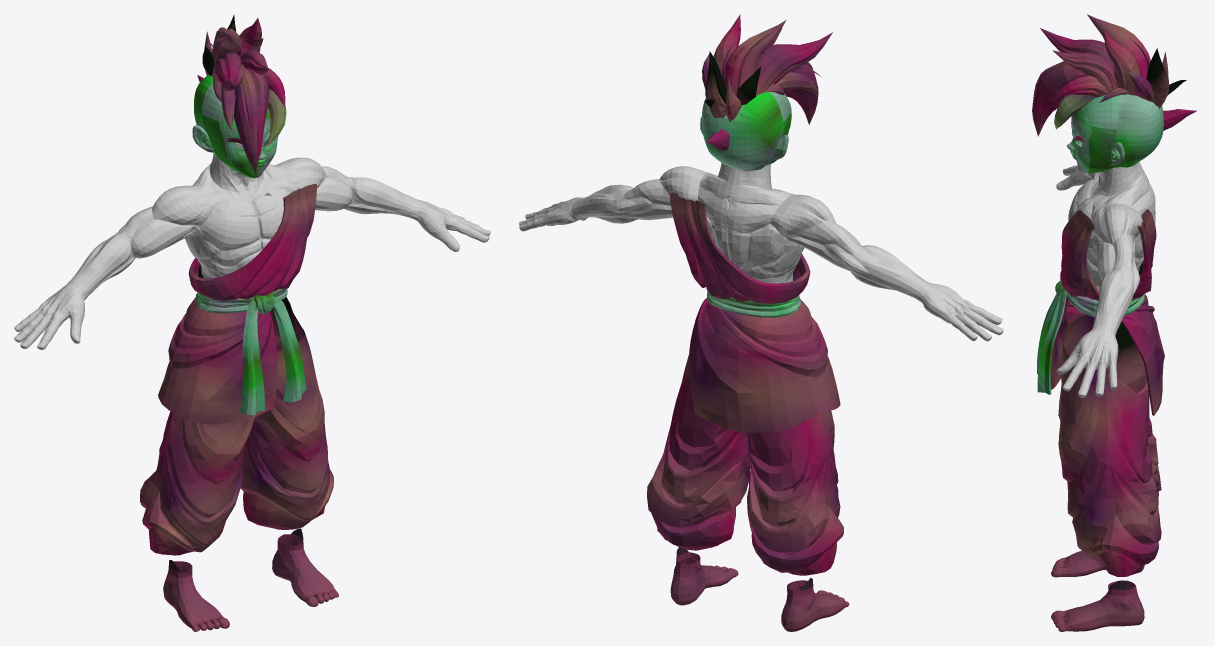
File: vegeta_gekishin.obj
3 views of the same model, side by side, from view 1: azimuth 30°, elevation 25°; view 2: azimuth 150°, elevation 25°; view 3: azimuth 270°, elevation 25° (orthographic). The views are drawn at different scales.
Size of the model in its own units: 1.42 by 1.67 by 0.4453.
